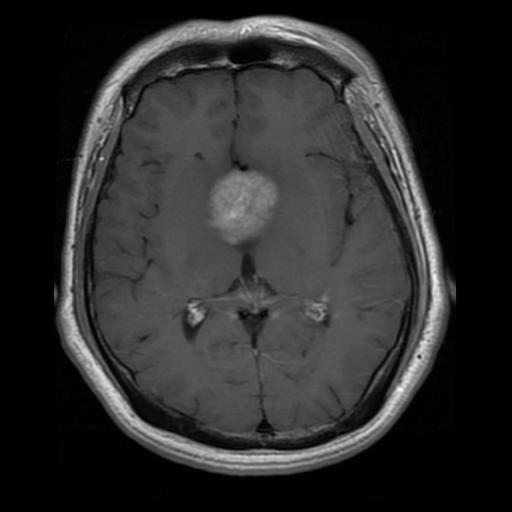Tumour-Pituitary: (206, 171, 283, 248)
